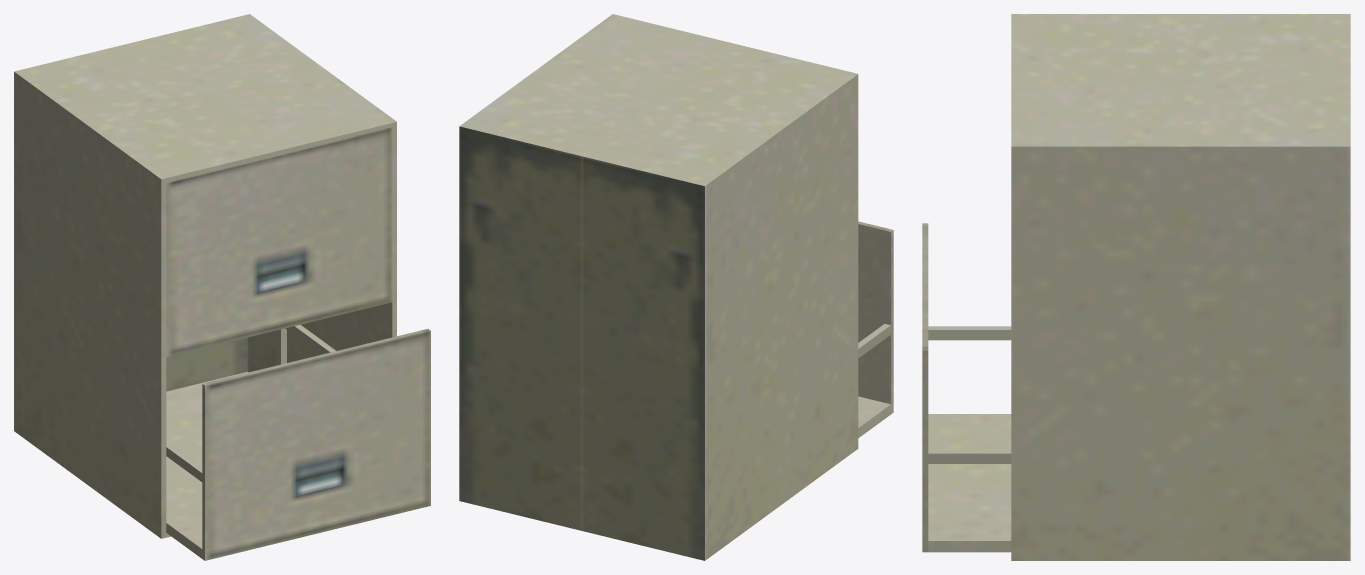
Rendered from file_cabinet_smallest_with_shelfs.obj.
The picture shows the model from 3 angles, left to right: view 1: azimuth 30°, elevation 25°; view 2: azimuth 150°, elevation 25°; view 3: azimuth 270°, elevation 25°; orthographic projection. The views are drawn at different scales.
Visible parts, largest first — view 1: file_cabinet_smallest_with_shelfs; view 2: file_cabinet_smallest_with_shelfs; view 3: file_cabinet_smallest_with_shelfs.
Boxes of the visible parts, x1=… form: file_cabinet_smallest_with_shelfs: x1=14, y1=14, x2=430, y2=560; file_cabinet_smallest_with_shelfs: x1=459, y1=14, x2=893, y2=560; file_cabinet_smallest_with_shelfs: x1=922, y1=14, x2=1350, y2=560.
Size of the model in its own units: 0.4847 by 0.7064 by 0.6623.
